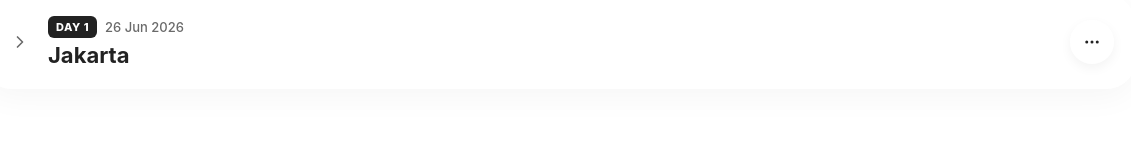
Test: DayTimeline › opens day actions without collapsing the timeline content
Click the button named "tampilkan opsi": (1092, 42) [1070,20,1114,64]
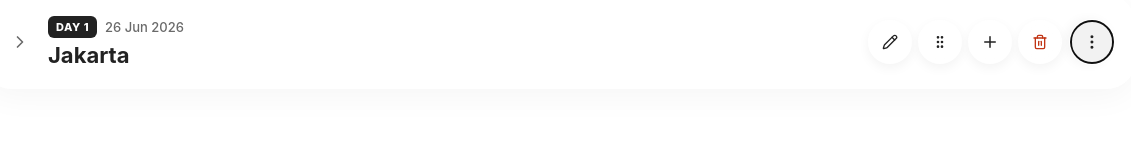
Expected: the link named "edit hari" is shown, [868,20,912,64]
